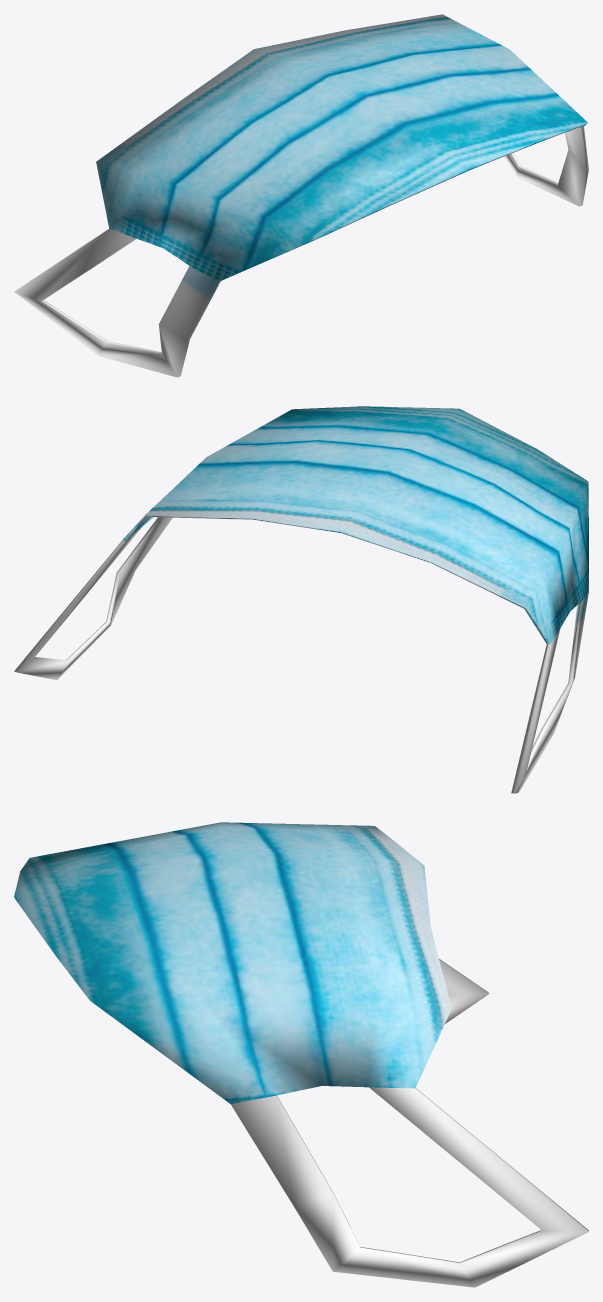
Rendered from mask-throwing-shit.fbx.
3 renders of one model, top to bottom at view 1: azimuth 30°, elevation 25°; view 2: azimuth 150°, elevation 25°; view 3: azimuth 270°, elevation 25°, orthographic. The views are drawn at different scales.
Visible parts, largest first — view 1: mask for head 2.002; view 2: mask for head 2.002; view 3: mask for head 2.002.
Boxes of the visible parts, bbox=[...] form: mask for head 2.002: bbox=[14, 14, 588, 377]; mask for head 2.002: bbox=[14, 406, 588, 793]; mask for head 2.002: bbox=[14, 822, 588, 1287].
Size of the model in its own units: 44.33 by 22.76 by 36.76.
